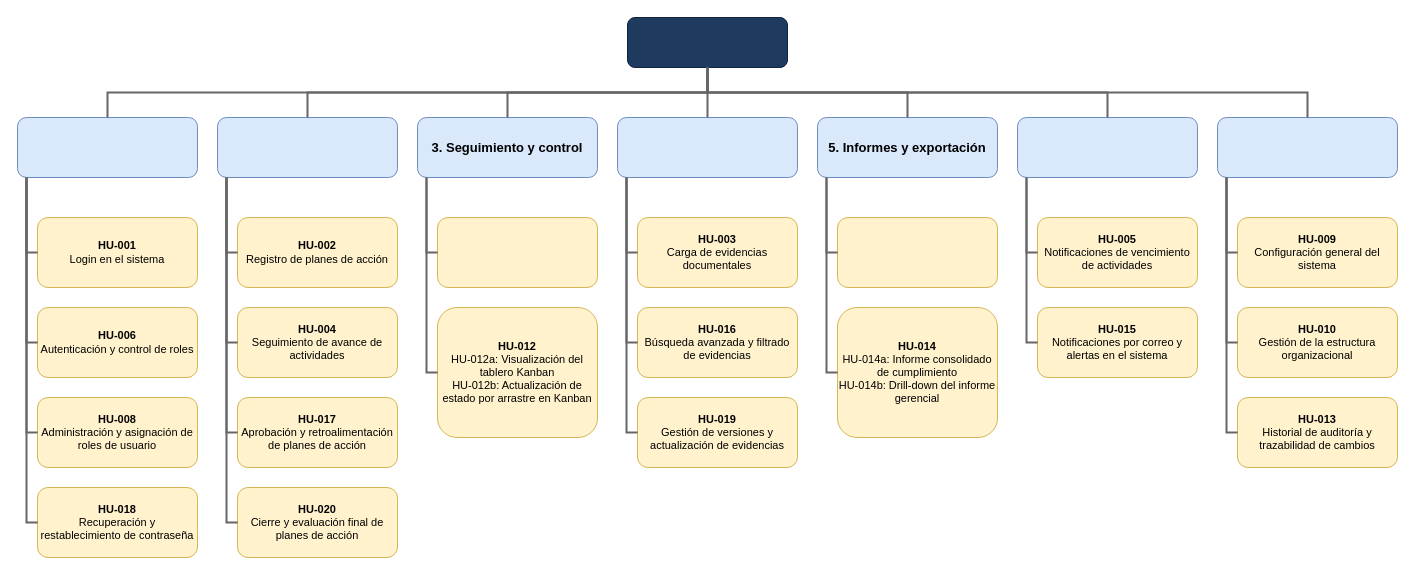
The diagram is 1415 pixels wide and 575 high, and some of its shapes have lost their labels. The shapes that lost their labels are listed below. From the top down, each one's centre as x and y in pixels, then its label:
(707,42): SGPI
(107,147): 1. Autenticación y acceso
(307,147): 2. Planes de acción
(707,147): 4. Gestión de evidencias
(1107,147): 6. Notificaciones
(1307,147): 7. Administración
(517,252): HU-007 Pruebas de validación del módulo de informes
(917,252): HU-011 Exportación de planes de acción a PDF y Excel
